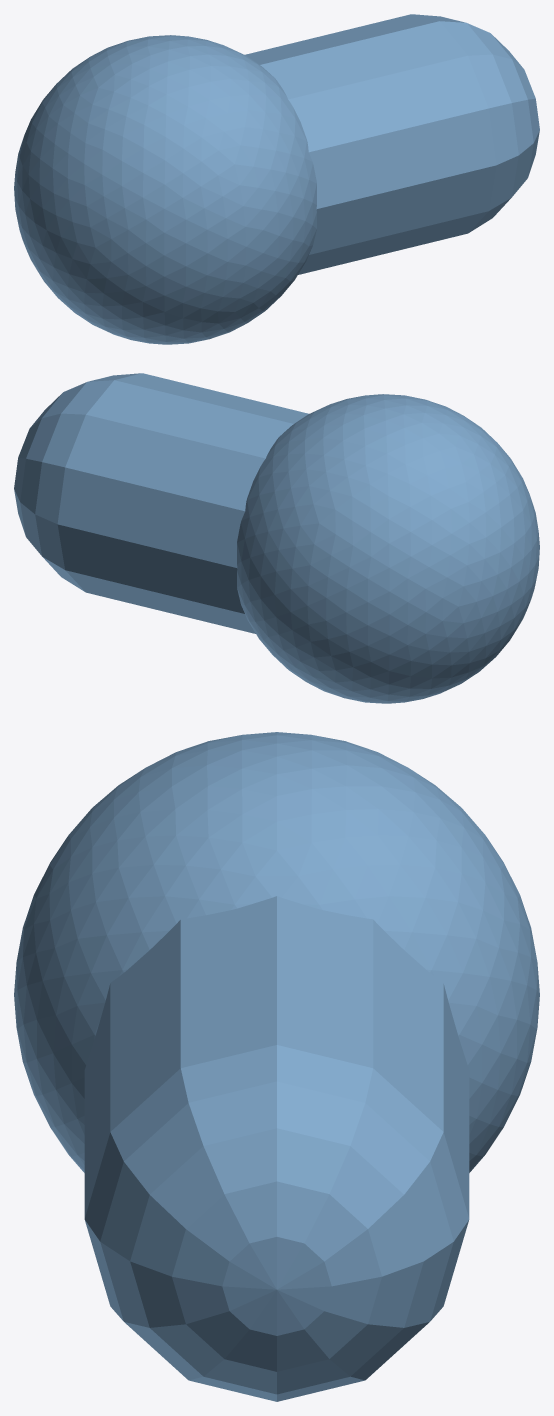
3 renders of one model, top to bottom at view 1: azimuth 30°, elevation 25°; view 2: azimuth 150°, elevation 25°; view 3: azimuth 270°, elevation 25°, orthographic. The views are drawn at different scales.
Visible parts, largest first — view 1: world; view 2: world; view 3: world.
Part boxes in pixels (left/top/right/bottom): world: left=14, top=14, right=539, bottom=344; world: left=14, top=373, right=539, bottom=703; world: left=14, top=732, right=539, bottom=1401.
Size of the model in its own units: 0.168 by 0.092 by 0.092.
